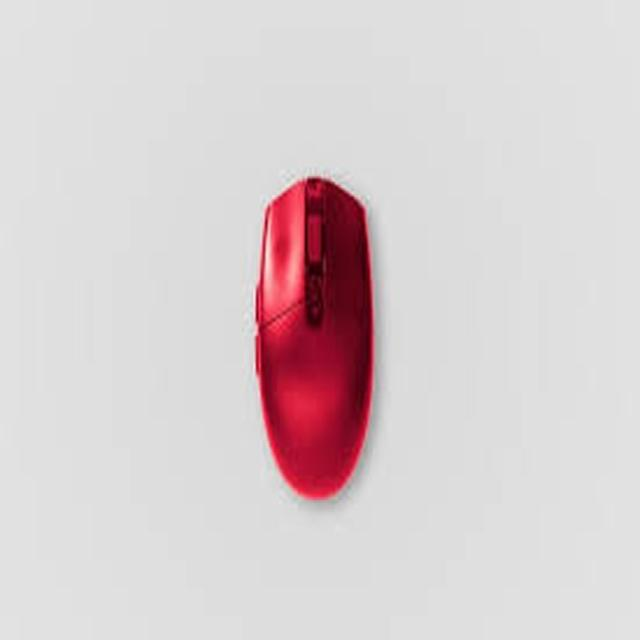mouse: (243, 166, 391, 523), (347, 166, 384, 177)
